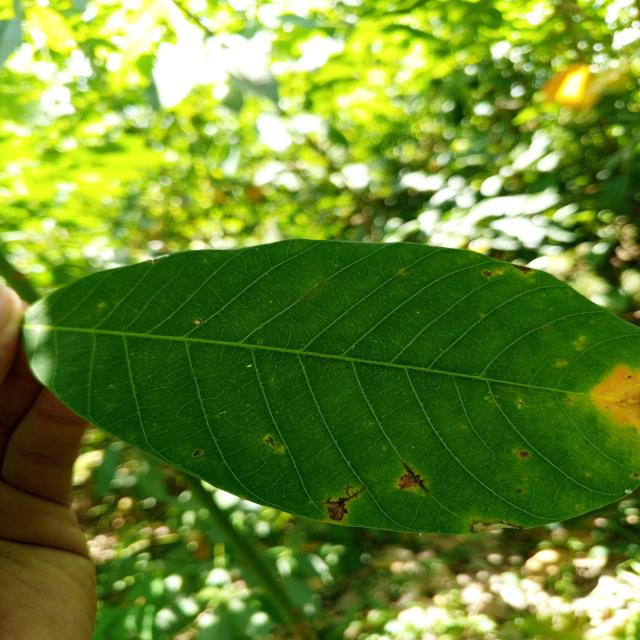Colletotrichum: (194, 318, 202, 326), (633, 472, 639, 478), (568, 399, 572, 402)
Corynespora: (325, 484, 366, 521), (326, 484, 366, 506), (402, 461, 429, 493)
Leaf-Blight: (472, 522, 519, 532)
